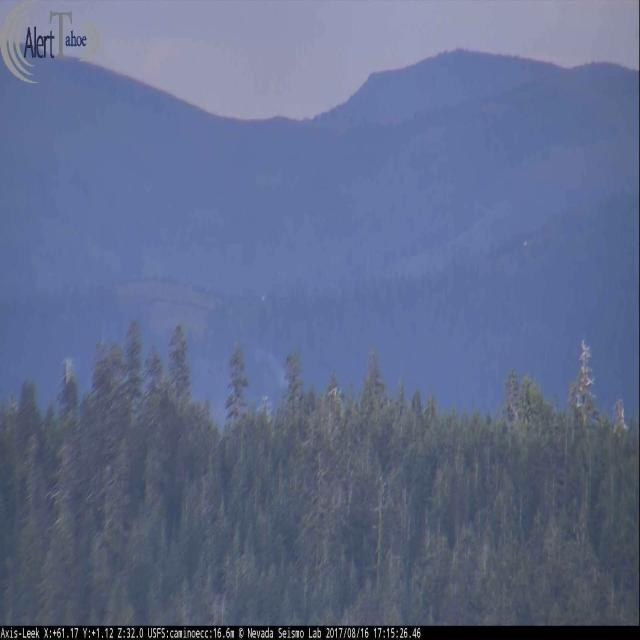smoke: (247, 321, 296, 397)
